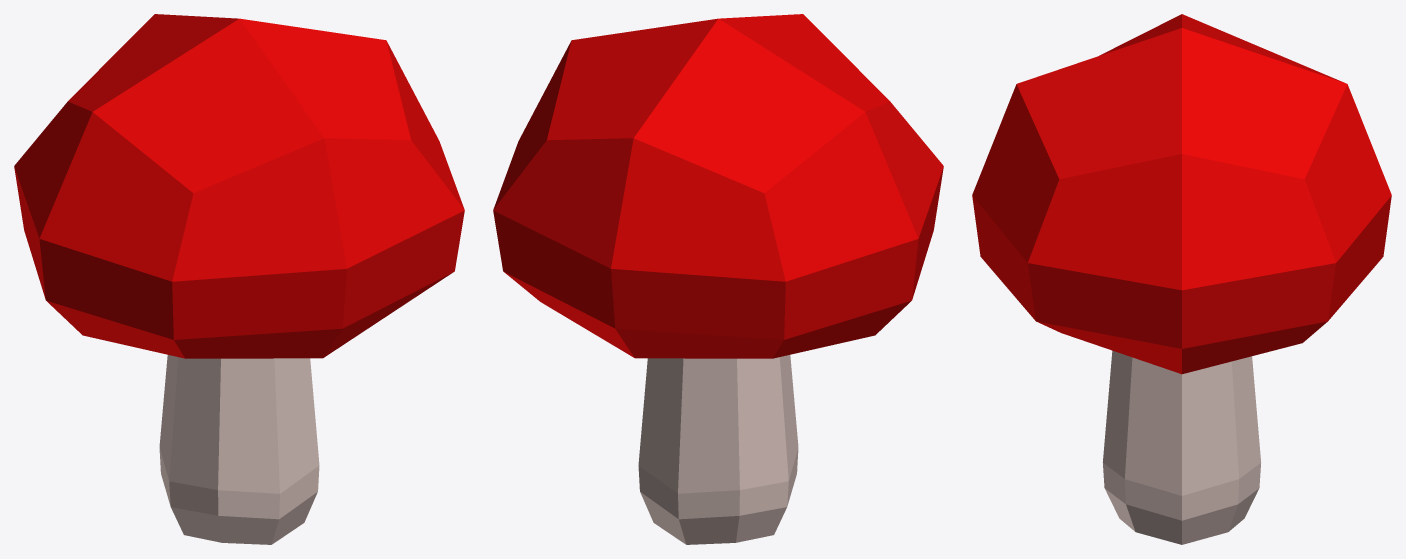
Rendered from MUSH_ROUNDEDMED_RED.fbx.
3 renders of one model, left to right at view 1: azimuth 30°, elevation 25°; view 2: azimuth 150°, elevation 25°; view 3: azimuth 270°, elevation 25°, orthographic. The views are drawn at different scales.
Parts seen in each view (by area): view 1: pCube20, pCube19; view 2: pCube20, pCube19; view 3: pCube20, pCube19.
Boxes of the visible parts, bbox=[...] form: pCube20: bbox=[14, 14, 464, 358]; pCube19: bbox=[159, 355, 319, 544]; pCube20: bbox=[493, 14, 943, 358]; pCube19: bbox=[638, 355, 798, 544]; pCube20: bbox=[972, 14, 1391, 374]; pCube19: bbox=[1102, 350, 1261, 544].
Bounding box in the file's own units: 14.03 × 17.15 × 13.06.
